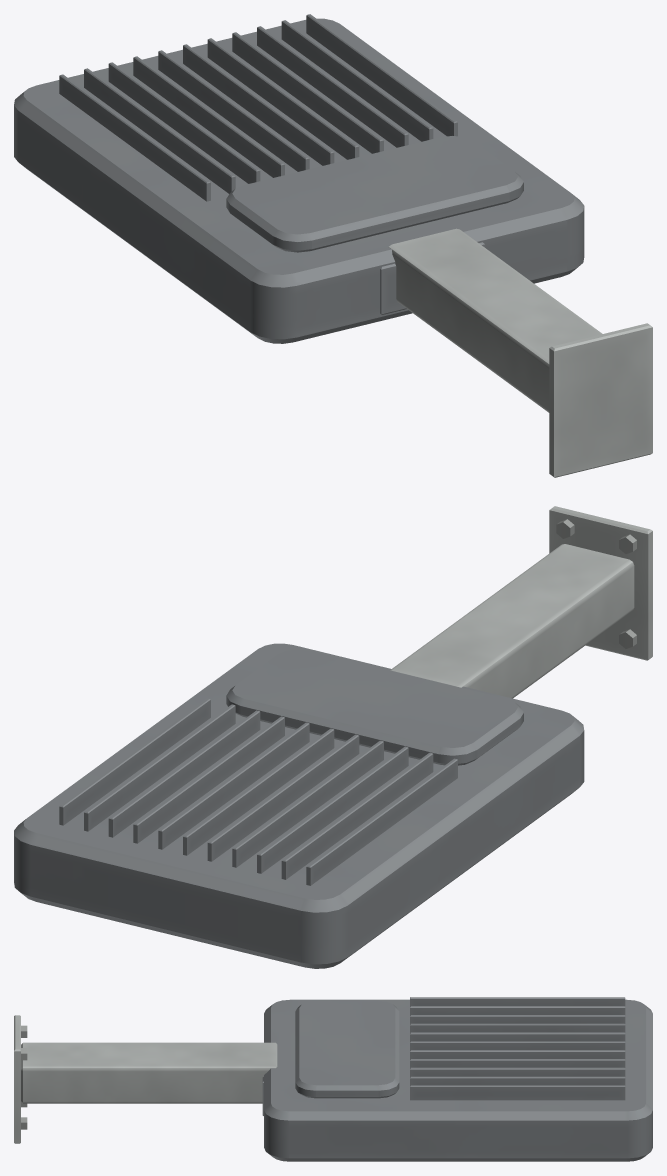
Rendered from head_lit.obj.
3 renders of one model, top to bottom at view 1: azimuth 30°, elevation 25°; view 2: azimuth 150°, elevation 25°; view 3: azimuth 270°, elevation 25°, orthographic. The views are drawn at different scales.
Parts seen in each view (by area): view 1: housing, driver, arm, plate, fin_0, fin_1, fin_10, fin_2, fin_6, fin_9, fin_3, fin_4 (+4 smaller); view 2: housing, driver, arm, plate, fin_1, fin_4, fin_8, fin_2, fin_9, fin_10, fin_6, fin_0 (+3 smaller); view 3: housing, arm, driver, fin_10, fin_3, fin_4, fin_8, fin_9, fin_1, fin_2, fin_6, fin_7 (+3 smaller).
Part boxes in pixels (<box>): housing: <box>14,18,584,343</box>; driver: <box>226,136,523,252</box>; arm: <box>389,228,602,412</box>; plate: <box>549,323,652,477</box>; fin_0: <box>59,74,210,201</box>; fin_1: <box>84,68,235,193</box>; fin_10: <box>306,14,457,136</box>; fin_2: <box>108,62,260,183</box>; fin_6: <box>207,38,359,159</box>; fin_9: <box>281,20,433,141</box>; fin_3: <box>133,56,284,177</box>; fin_4: <box>158,50,309,171</box>; housing: <box>14,643,584,968</box>; driver: <box>226,649,523,765</box>; arm: <box>390,544,634,698</box>; plate: <box>549,506,652,660</box>; fin_1: <box>281,752,433,879</box>; fin_4: <box>207,734,359,861</box>; fin_8: <box>108,710,260,837</box>; fin_2: <box>257,746,408,873</box>; fin_9: <box>84,704,235,831</box>; fin_10: <box>59,698,210,825</box>; fin_6: <box>158,722,309,849</box>; fin_0: <box>306,758,457,885</box>; housing: <box>264,999,652,1161</box>; arm: <box>21,1042,277,1103</box>; driver: <box>295,1000,399,1098</box>; fin_10: <box>410,1085,625,1100</box>; fin_3: <box>410,1023,625,1032</box>; fin_4: <box>410,1032,625,1041</box>; fin_8: <box>410,1067,625,1076</box>; fin_9: <box>410,1076,625,1085</box>; fin_1: <box>410,1006,625,1014</box>; fin_2: <box>410,1015,625,1023</box>; fin_6: <box>410,1050,625,1058</box>; fin_7: <box>410,1059,625,1067</box>.
Bounding box in the file's own units: 0.4 × 0.15 × 0.92.
